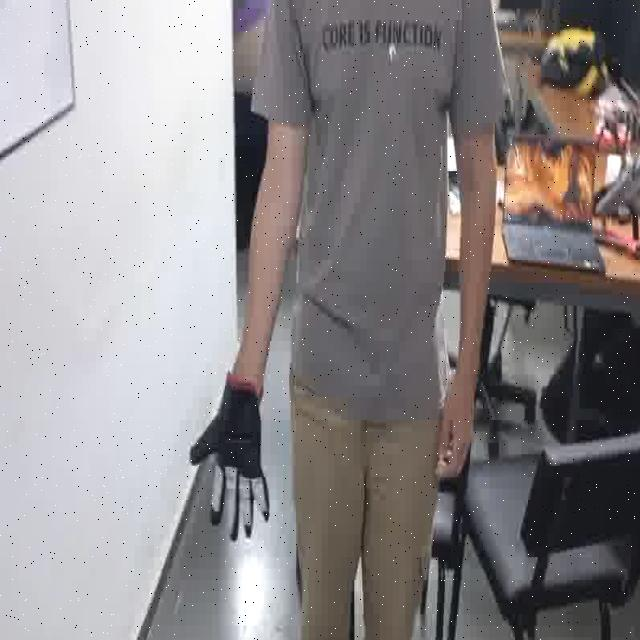Gloves: (186, 370, 282, 558)
